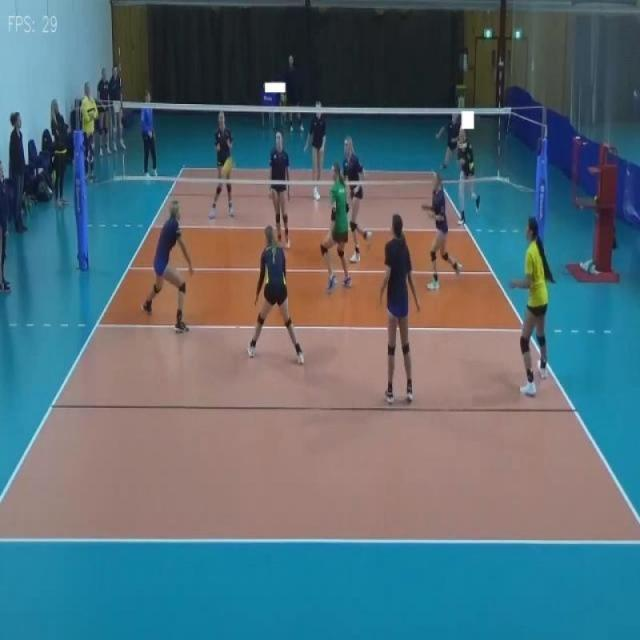volleyball: (221, 156, 232, 180)
